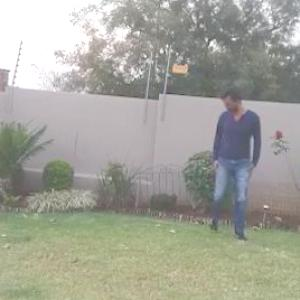follow: (212, 83, 263, 244)
